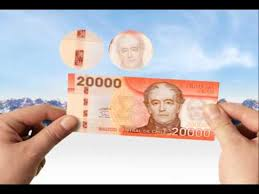billete: (64, 72, 221, 141)
